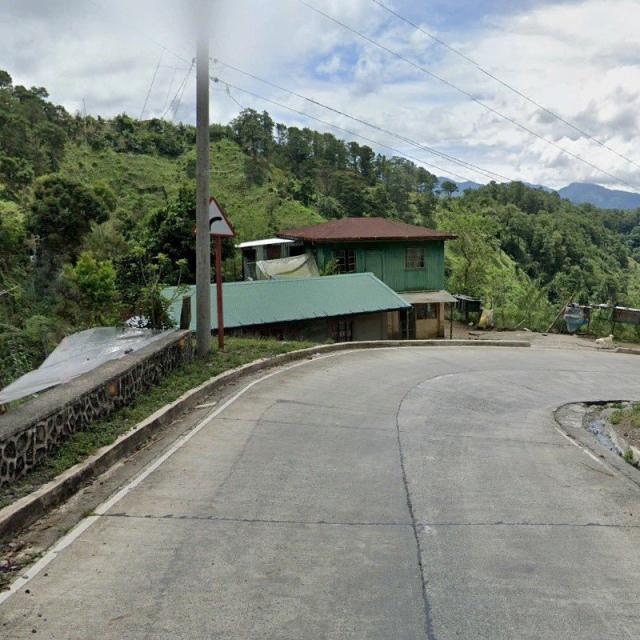warn_right_curve: (193, 197, 237, 237)
